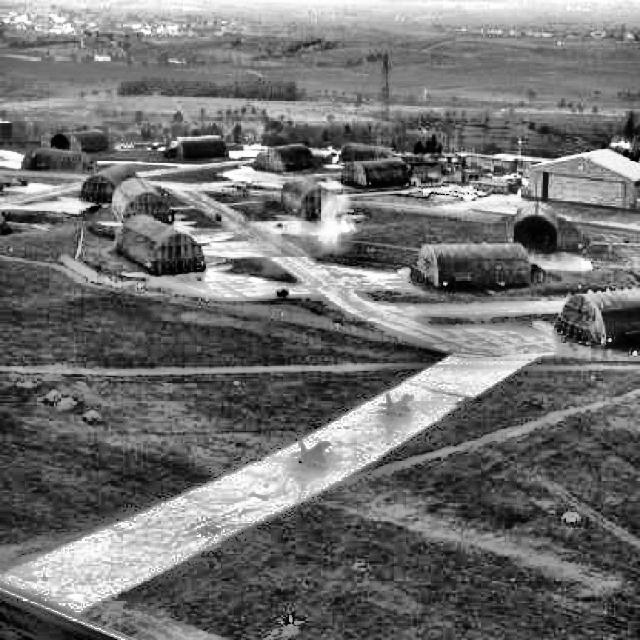F16: (290, 441, 332, 468), (376, 392, 415, 418), (1, 173, 22, 189)
